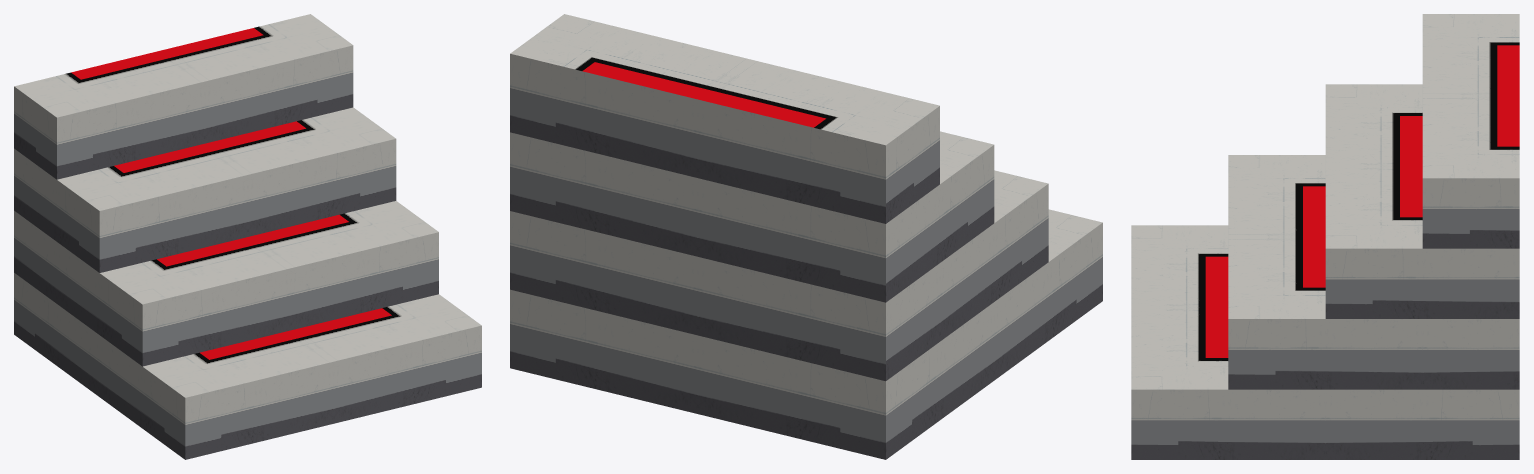
The model's file is G_Env_Arch_Stairs_Metal_03_Tall.fbx.
The picture shows the model from 3 angles, left to right: view 1: azimuth 30°, elevation 25°; view 2: azimuth 150°, elevation 25°; view 3: azimuth 270°, elevation 25°; orthographic projection. The views are drawn at different scales.
Parts seen in each view (by area): view 1: G_Env_Arch_Stairs_Metal_03_Tall; view 2: G_Env_Arch_Stairs_Metal_03_Tall; view 3: G_Env_Arch_Stairs_Metal_03_Tall.
Part boxes in pixels (<box>): G_Env_Arch_Stairs_Metal_03_Tall: <box>14,14,481,459</box>; G_Env_Arch_Stairs_Metal_03_Tall: <box>510,14,1102,459</box>; G_Env_Arch_Stairs_Metal_03_Tall: <box>1131,14,1519,459</box>.
Size of the model in its own units: 500 by 400 by 500.
